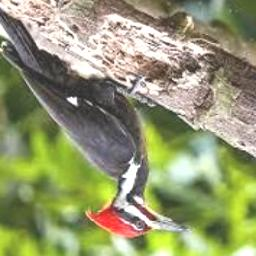Woodpecker: (0, 0, 189, 239)
